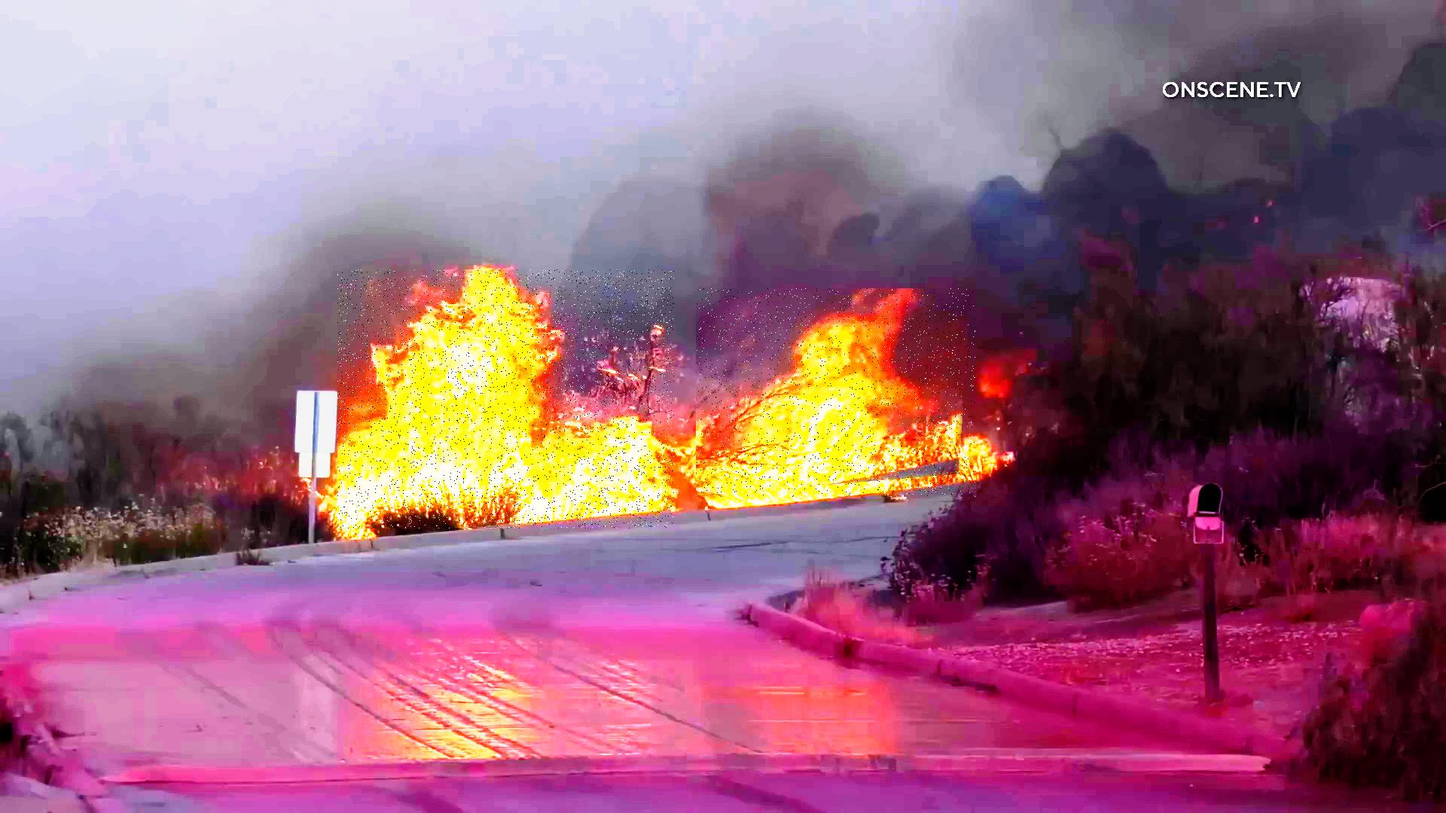fire: (338, 270, 675, 529), (696, 288, 976, 497)
